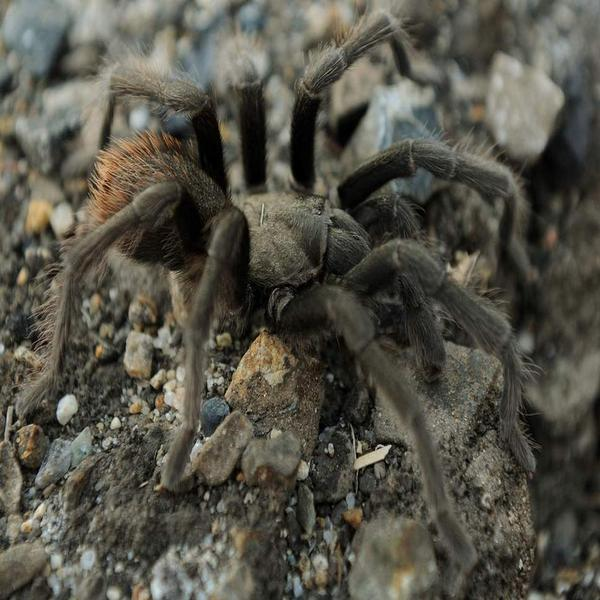Tarantula Spider: (62, 30, 529, 566)
